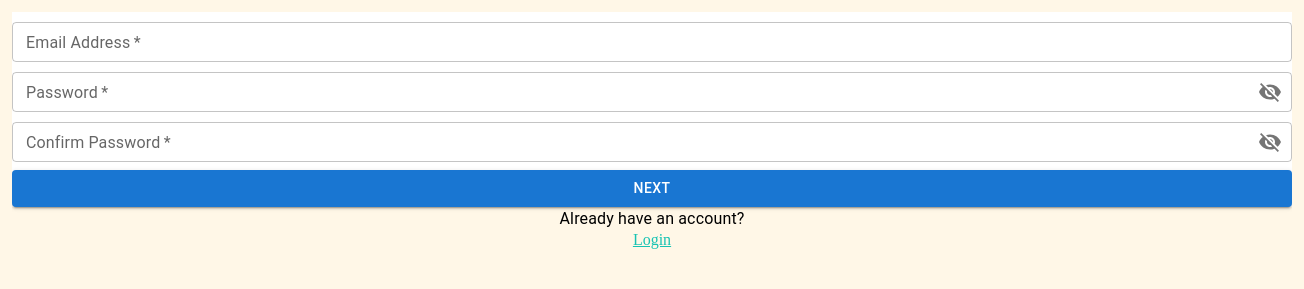
Test: RegisterFormPt1 › shows email taken
Type "taken@email.com" into the field labelled "Email Address *" at coordinates (652, 42), box [12,22,1292,62]
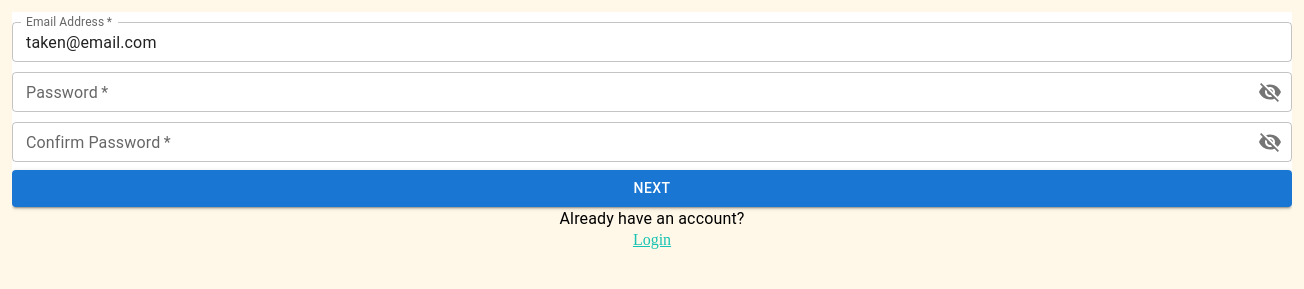
Type "Password1!" into the password field labelled "Password *" at coordinates (627, 92), box [12,72,1242,112]
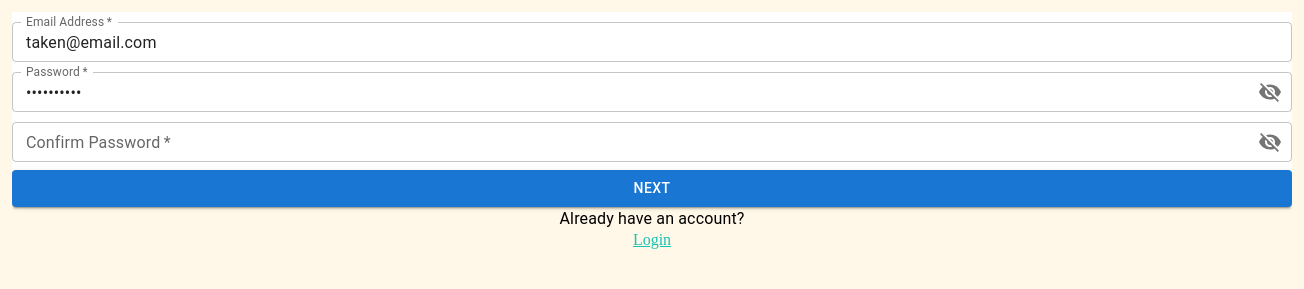
Type "Password1!" into the password field labelled "Confirm Password *" at coordinates (627, 142), box [12,122,1242,162]
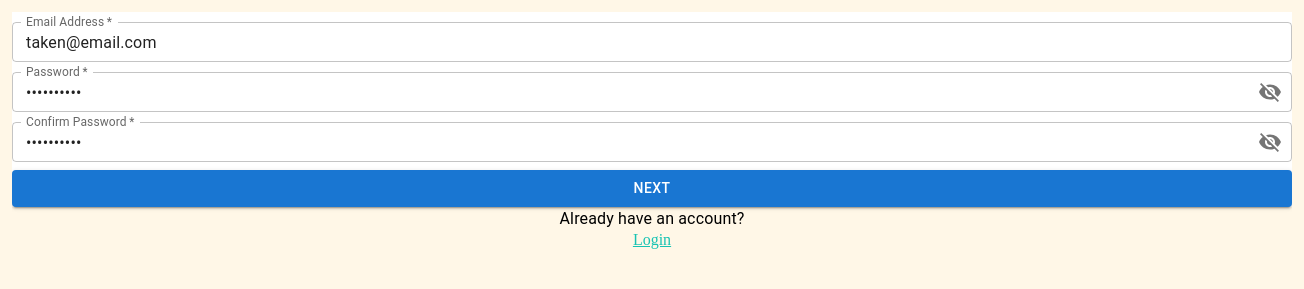
Click the button "Next" at coordinates (652, 188), box [12,170,1292,206]
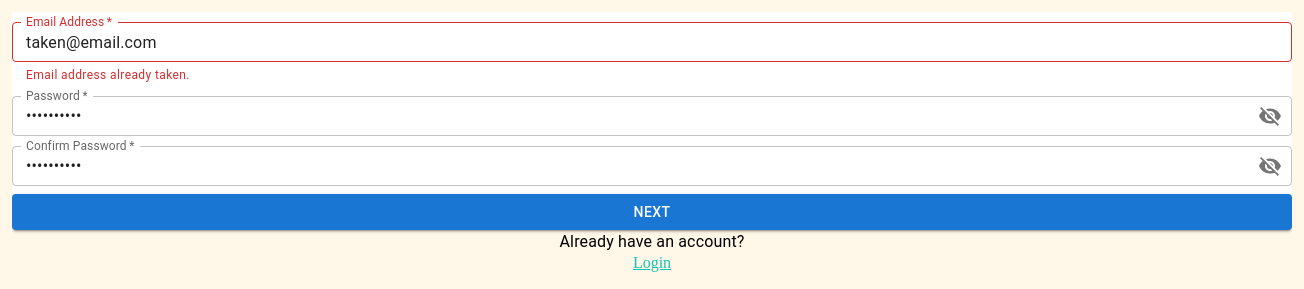
Expected: the text "Email address already taken." is shown, [26,68,190,82]
